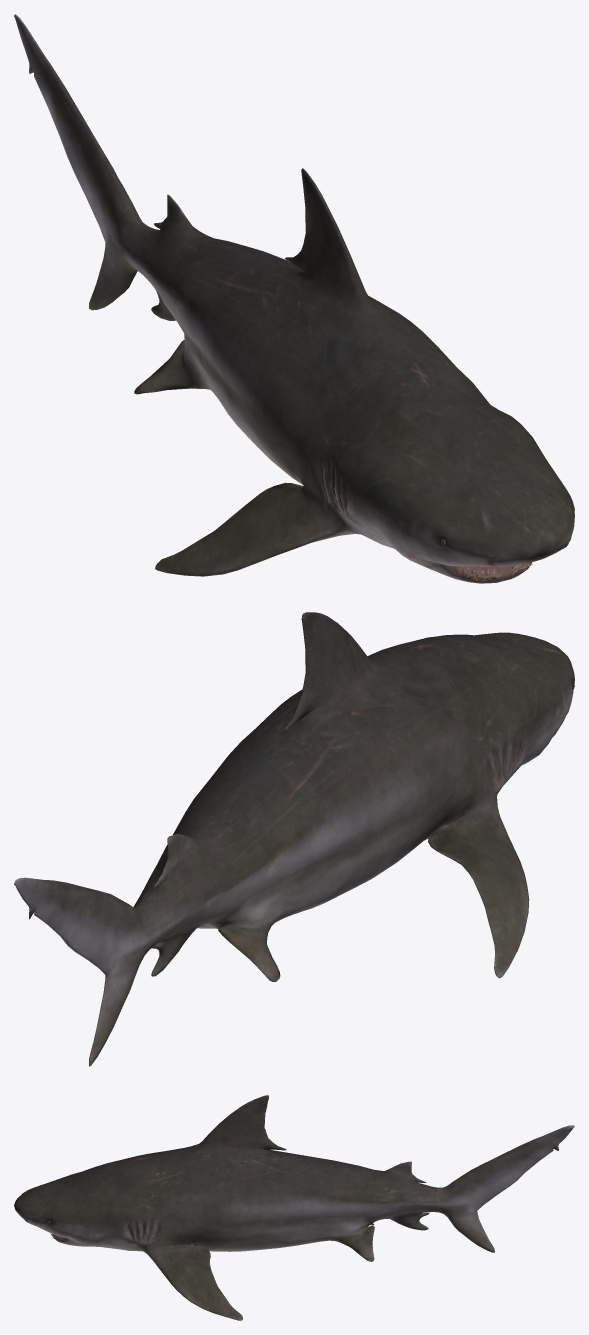
The model's file is bull_shark.glb.
The picture shows the model from 3 angles, top to bottom: view 1: azimuth 30°, elevation 25°; view 2: azimuth 150°, elevation 25°; view 3: azimuth 270°, elevation 25°; orthographic projection. The views are drawn at different scales.
Parts seen in each view (by area): view 1: Object_6; view 2: Object_6; view 3: Object_6.
Part boxes in pixels (box(x1,y1,x2,y2)): Object_6: box(14, 14, 574, 583); Object_6: box(14, 612, 574, 1066); Object_6: box(14, 1095, 574, 1320).
Size of the model in its own units: 26.39 by 24.85 by 69.82.
Materials: 1 (1 with a texture image).
